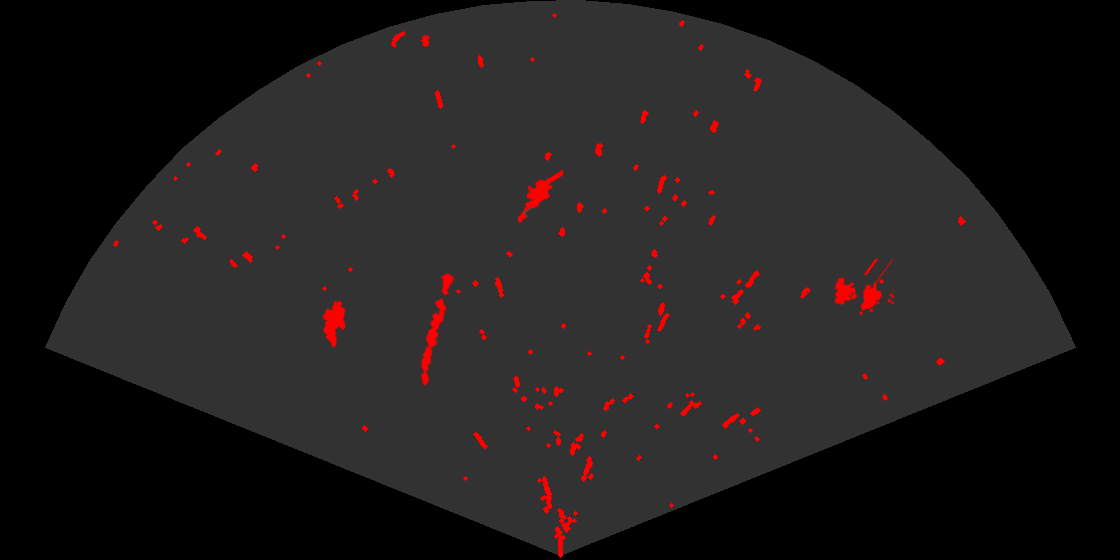AUV: (321, 299, 347, 349)
cage: (833, 259, 894, 317)
chain: (419, 270, 456, 387)
frogman: (511, 170, 563, 226)
